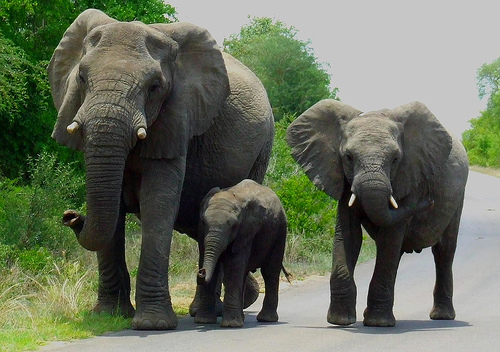elephant: (37, 2, 281, 339), (284, 85, 468, 325), (192, 174, 298, 329)
